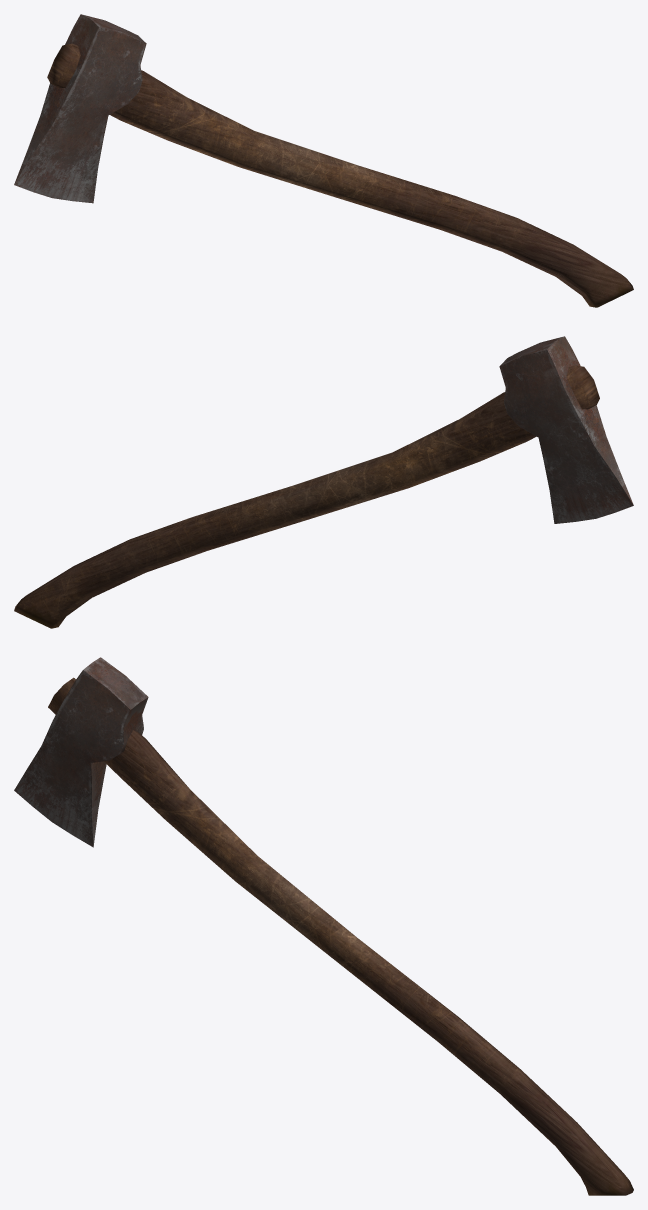
3 views of the same model, one above another, from view 1: azimuth 30°, elevation 25°; view 2: azimuth 150°, elevation 25°; view 3: azimuth 330°, elevation 25° (orthographic).
Visible parts, largest first — view 1: Ax_Ax_0; view 2: Ax_Ax_0; view 3: Ax_Ax_0.
Boxes of the visible parts, x1,y1,x2,y2 form: Ax_Ax_0: (14,14,633,307); Ax_Ax_0: (14,336,633,628); Ax_Ax_0: (14,657,633,1195).
Bounding box in the file's own units: 0.2271 × 0.1432 × 0.0146.
1 material, 1 textured.
